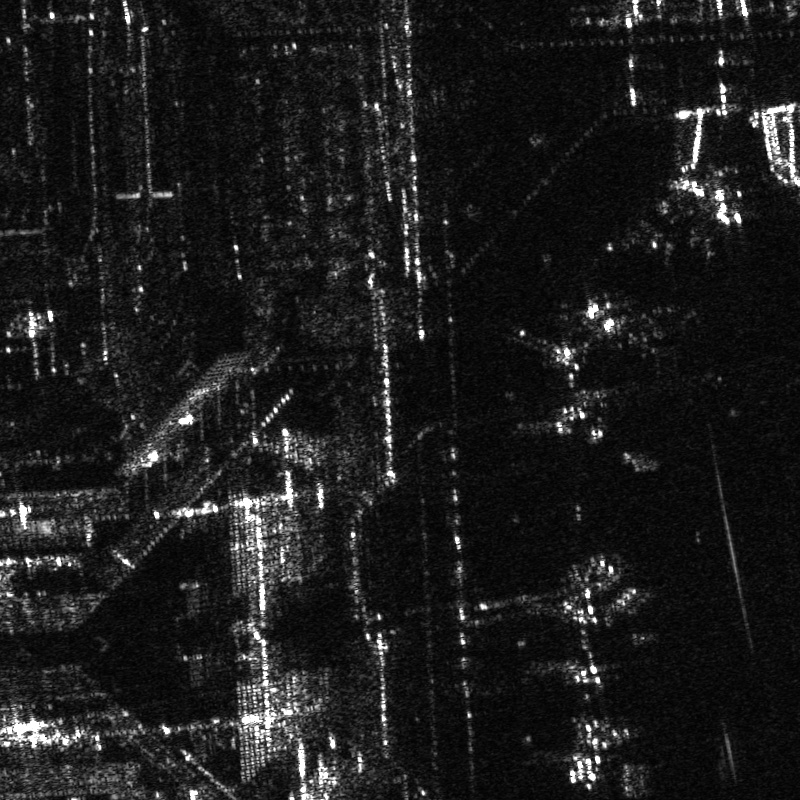A320/321: (562, 542, 676, 645)
A330: (575, 291, 698, 373)
